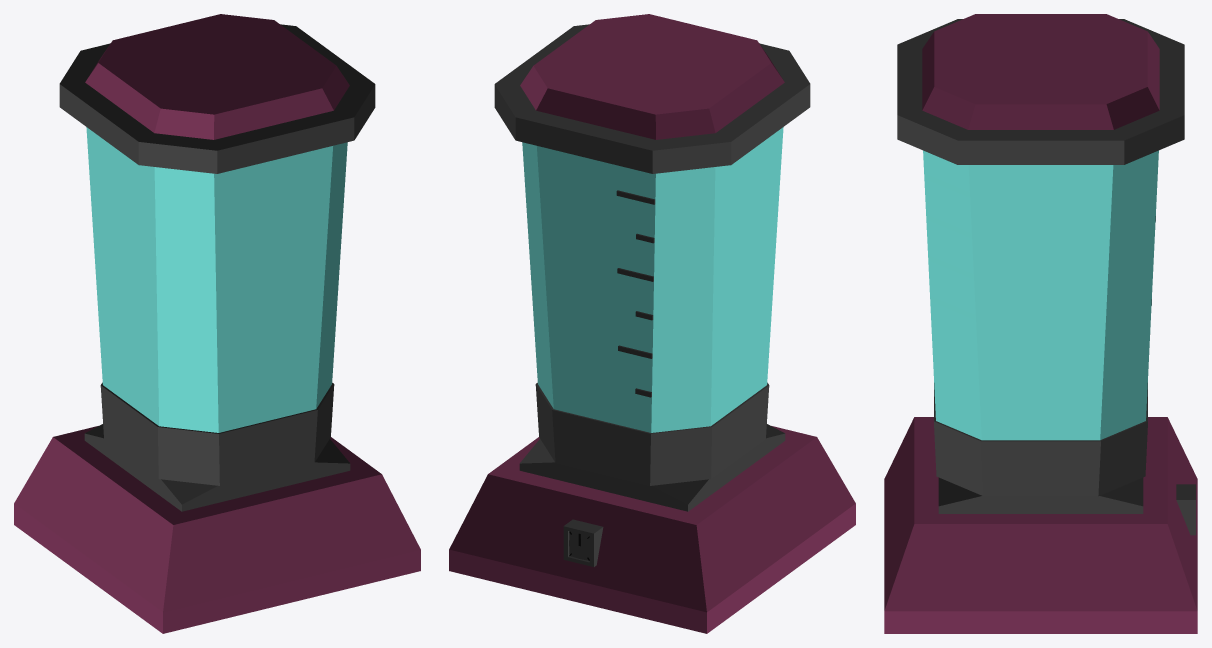
The model's file is Blender 1.fbx.
3 views of the same model, side by side, from view 1: azimuth 30°, elevation 25°; view 2: azimuth 150°, elevation 25°; view 3: azimuth 270°, elevation 25° (orthographic). The views are drawn at different scales.
Parts seen in each view (by area): view 1: Cube.205; view 2: Cube.205; view 3: Cube.205.
Part boxes in pixels (<box>): Cube.205: <box>14,14,420,633</box>; Cube.205: <box>449,14,855,633</box>; Cube.205: <box>884,14,1197,633</box>.
Size of the model in its own units: 0.2117 by 0.3793 by 0.2117.
